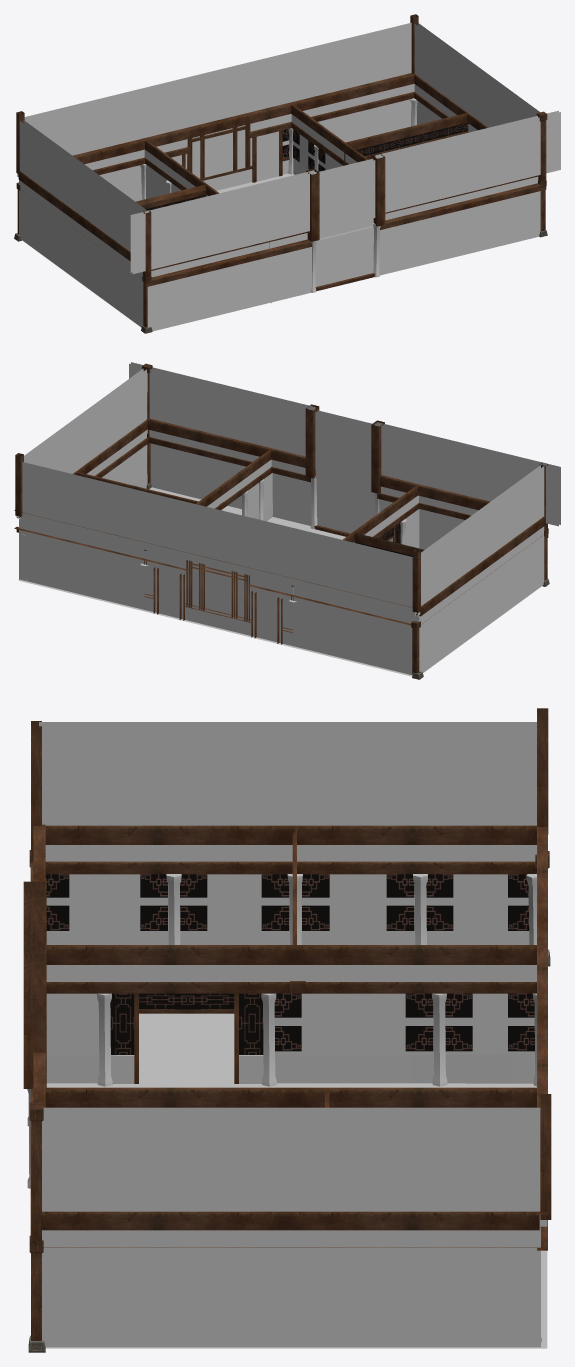
The model's file is s7_3d_lmzc_bieshushinei02.FBX.
3 views of the same model, one above another, from view 1: azimuth 30°, elevation 25°; view 2: azimuth 150°, elevation 25°; view 3: azimuth 270°, elevation 25° (orthographic). The views are drawn at different scales.
Visible parts, largest first — view 1: Object10, Object11, Object14, Object021, Object06, Object024; view 2: Object10, Object11, Object14, Object021, Object024; view 3: Object10, Object11, Object14, Object024, Object06.
Part boxes in pixels (x1,y1,x2,y2): Object10: (17,22,560,331); Object11: (14,14,547,333); Object14: (21,84,538,327); Object021: (171,131,373,286); Object06: (83,123,468,227); Object024: (130,98,417,292); Object10: (17,362,560,675); Object11: (14,363,549,679); Object14: (18,429,541,676); Object021: (316,479,375,533); Object024: (22,474,406,602); Object10: (39,722,547,1347); Object11: (23,708,551,1352); Object14: (45,845,547,1348); Object024: (27,874,542,1341); Object06: (45,874,534,1054).
Size of the model in its own units: 42.39 by 12.07 by 22.63.
